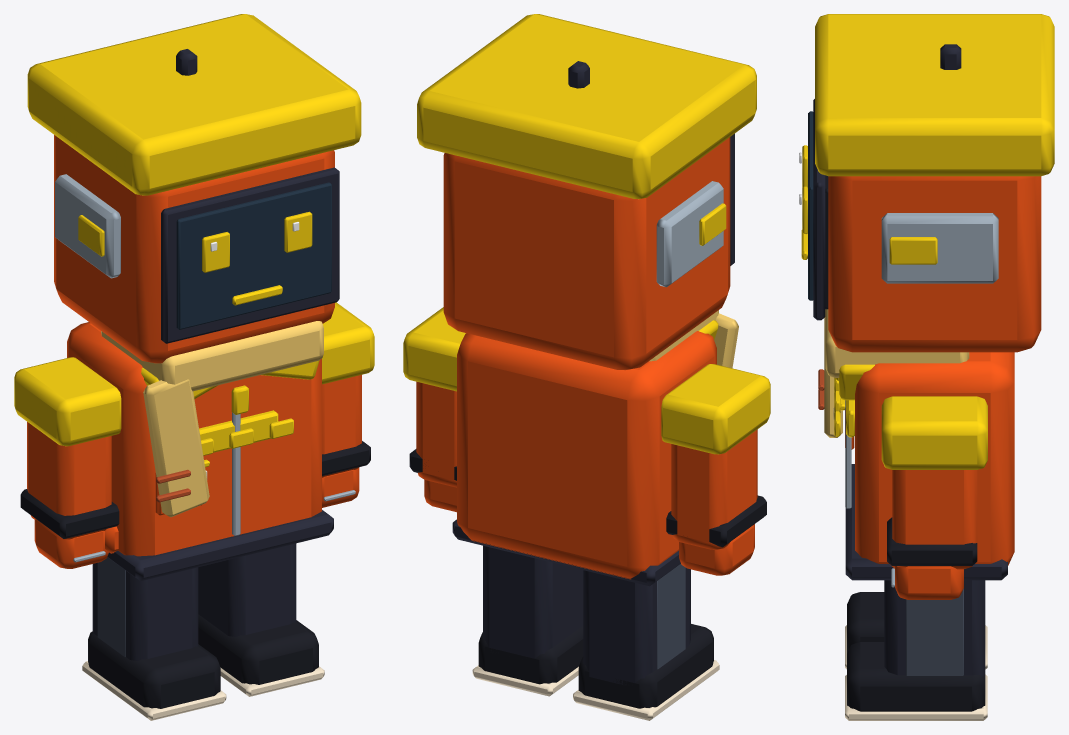
File: Mistral.glb
3 views of the same model, side by side, from view 1: azimuth 30°, elevation 25°; view 2: azimuth 150°, elevation 25°; view 3: azimuth 270°, elevation 25° (orthographic). The views are drawn at different scales.
Visible parts, largest first — view 1: Batch_Head_CITY / #ffd60a.002, Batch_Body_CITY / #fa5310, Batch_Head_CITY / #fa5310, Batch_Head_CITY / #1e3042.004, Batch_Body_CITY / #ffd60a.002, Batch_Body_CITY / #ffd66f, Batch_Head_CITY / charcoal.017, Leg_R_trouser, Leg_L_trouser, Arm_L_sleeve, Leg_L_shoe, Leg_R_shoe (+12 smaller); view 2: Batch_Body_CITY / #fa5310, Batch_Head_CITY / #fa5310, Batch_Head_CITY / #ffd60a.002, Batch_Body_CITY / #ffd60a.002, Leg_R_trouser, Leg_L_trouser, Arm_L_sleeve, Leg_L_shoe, Batch_Head_CITY / metal.017, Arm_R_sleeve, Leg_R_shoe, Batch_Leg_L_CITY / #475061.017 (+8 smaller); view 3: Batch_Head_CITY / #ffd60a.002, Batch_Head_CITY / #fa5310, Batch_Body_CITY / #fa5310, Batch_Body_CITY / #ffd60a.002, Batch_Head_CITY / metal.017, Arm_R_sleeve, Leg_R_shoe, Batch_Leg_R_CITY / #475061.017, Leg_R_trouser, Batch_Body_CITY / #ffd66f, Batch_Head_CITY / charcoal.017, Batch_Body_CITY / charcoal.017 (+8 smaller).
Part boxes in pixels (x1,y1,x2,y2): Batch_Head_CITY / #ffd60a.002: (27,14,361,305); Batch_Body_CITY / #fa5310: (67,322,321,556); Batch_Head_CITY / #fa5310: (54,135,334,363); Batch_Head_CITY / #1e3042.004: (176,182,331,329); Batch_Body_CITY / #ffd60a.002: (14,302,374,467); Batch_Body_CITY / #ffd66f: (101,321,323,517); Batch_Head_CITY / charcoal.017: (161,49,339,343); Leg_R_trouser: (198,543,296,636); Leg_L_trouser: (92,563,198,660); Arm_L_sleeve: (27,422,111,539); Leg_L_shoe: (88,631,220,708); Leg_R_shoe: (198,614,318,684); Batch_Body_CITY / #fa5310: (457,331,716,579); Batch_Head_CITY / #fa5310: (443,137,730,370); Batch_Head_CITY / #ffd60a.002: (417,14,756,245); Batch_Body_CITY / #ffd60a.002: (403,307,770,454); Leg_R_trouser: (483,545,583,658); Leg_L_trouser: (583,568,690,685); Arm_L_sleeve: (671,429,757,549); Leg_L_shoe: (578,624,713,708); Batch_Head_CITY / metal.017: (656,181,723,287); Arm_R_sleeve: (416,381,456,487); Leg_R_shoe: (478,626,583,684); Batch_Leg_L_CITY / #475061.017: (657,564,685,669); Batch_Head_CITY / #ffd60a.002: (801,14,1054,264); Batch_Head_CITY / #fa5310: (828,176,1041,352); Batch_Body_CITY / #fa5310: (845,352,1014,565); Batch_Body_CITY / #ffd60a.002: (834,364,987,469); Batch_Head_CITY / metal.017: (881,213,998,283); Arm_R_sleeve: (892,470,977,569); Leg_R_shoe: (847,641,985,711); Batch_Leg_R_CITY / #475061.017: (906,588,963,675); Leg_R_trouser: (884,580,985,677); Batch_Body_CITY / #ffd66f: (824,309,969,437); Batch_Head_CITY / charcoal.017: (813,44,961,320); Batch_Body_CITY / charcoal.017: (845,464,1007,580).
Size of the model in its own units: 0.71 by 1.31 by 0.4795.
